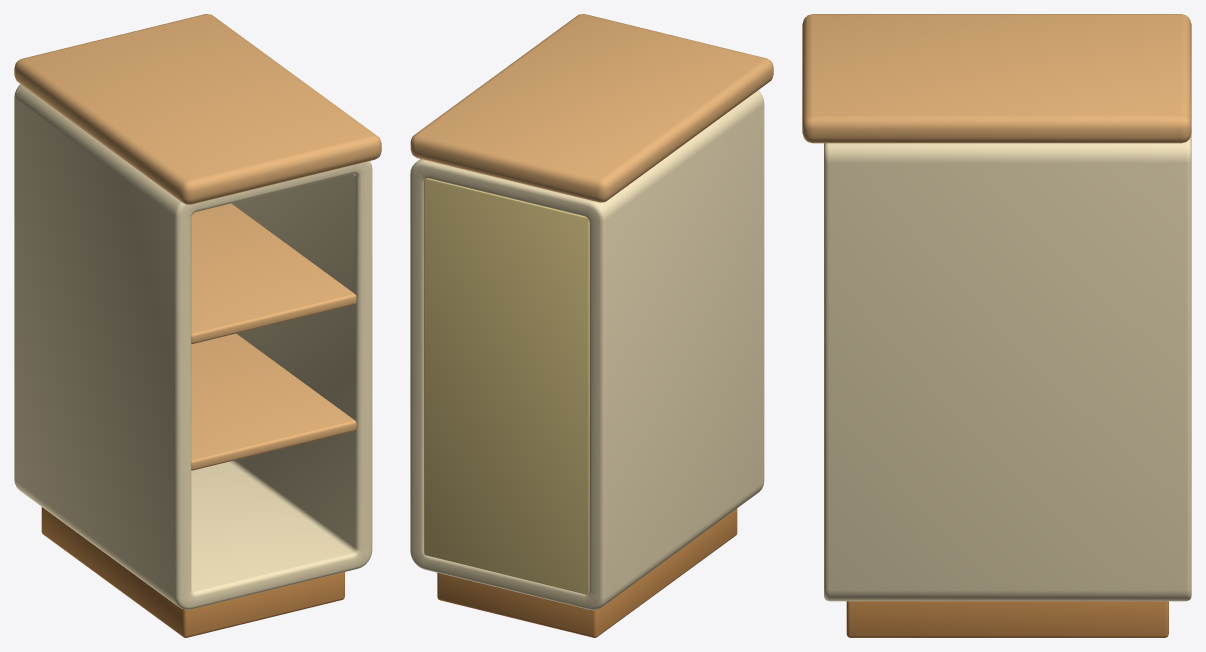
The model's file is nicho_cozinha_creme.glb.
The picture shows the model from 3 angles, left to right: view 1: azimuth 30°, elevation 25°; view 2: azimuth 150°, elevation 25°; view 3: azimuth 270°, elevation 25°; orthographic projection. The views are drawn at different scales.
Visible parts, largest first — view 1: nicho_cozinha_creme; view 2: nicho_cozinha_creme; view 3: nicho_cozinha_creme.
Part boxes in pixels (box(x1,y1,x2,y2)): nicho_cozinha_creme: box(14, 14, 381, 637); nicho_cozinha_creme: box(410, 14, 773, 637); nicho_cozinha_creme: box(802, 14, 1191, 637).
Bounding box in the file's own units: 0.398 × 0.9 × 0.599.
1 material, 1 textured.
